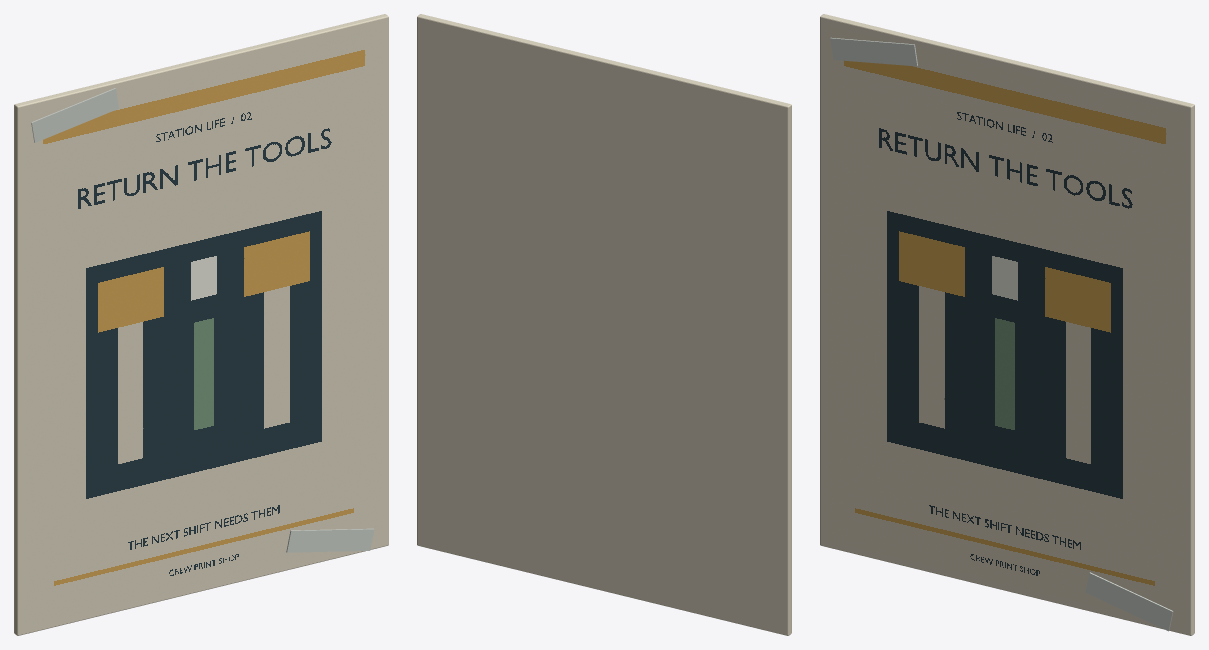
File: lbd_poster_tools.glb
3 views of the same model, side by side, from view 1: azimuth 30°, elevation 25°; view 2: azimuth 150°, elevation 25°; view 3: azimuth 330°, elevation 25° (orthographic).
Parts seen in each view (by area): view 1: poster_tools__poster_tools_004, poster_tools__backing_003, poster_tools__paper tape_007, poster_tools__paper tape_010; view 2: poster_tools__backing_003; view 3: poster_tools__poster_tools_004, poster_tools__backing_003, poster_tools__paper tape_010, poster_tools__paper tape_007.
Part boxes in pixels (box(x1,y1,x2,y2)): poster_tools__poster_tools_004: box(24, 25, 382, 627); poster_tools__backing_003: box(14, 14, 388, 635); poster_tools__paper tape_007: box(31, 88, 118, 142); poster_tools__paper tape_010: box(286, 528, 374, 552); poster_tools__backing_003: box(417, 14, 791, 635); poster_tools__poster_tools_004: box(826, 25, 1184, 627); poster_tools__backing_003: box(820, 14, 1194, 635); poster_tools__paper tape_010: box(1085, 572, 1173, 631); poster_tools__paper tape_007: box(830, 37, 917, 66).
Size of the model in its own units: 0.83 by 1.13 by 0.0225.
3 materials, 1 textured.
